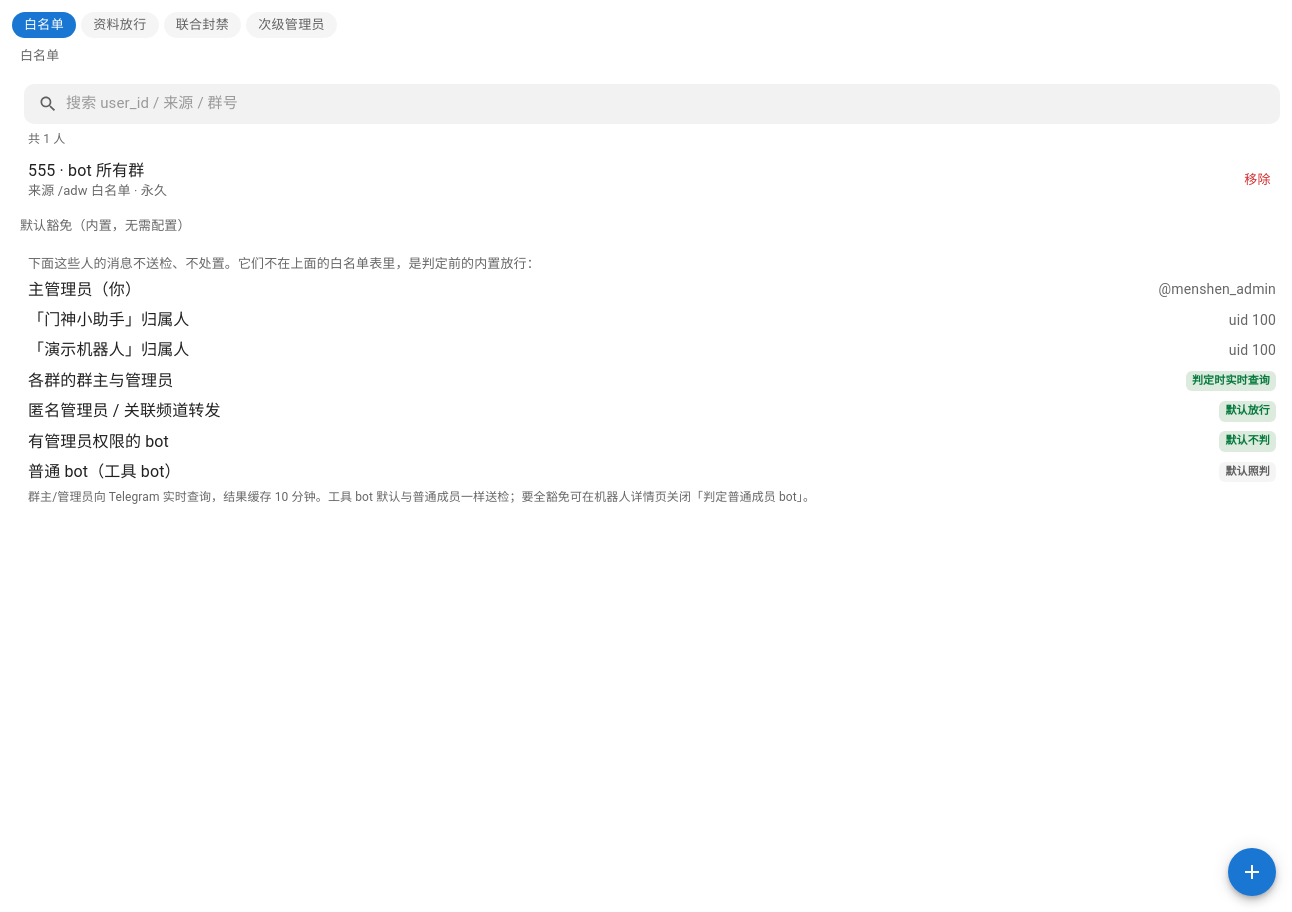
Scenario: ListsPage 四处搜索（本地过滤 + 焦点不丢） › 资料放行：按 uid / 机器人 / 原因过滤，输入焦点不丢
Expected: the text "555 · bot 所有群" is shown, left=28, top=161, right=144, bottom=180
Click the button "资料放行" at (120, 25), box left=81, top=12, right=159, bottom=38
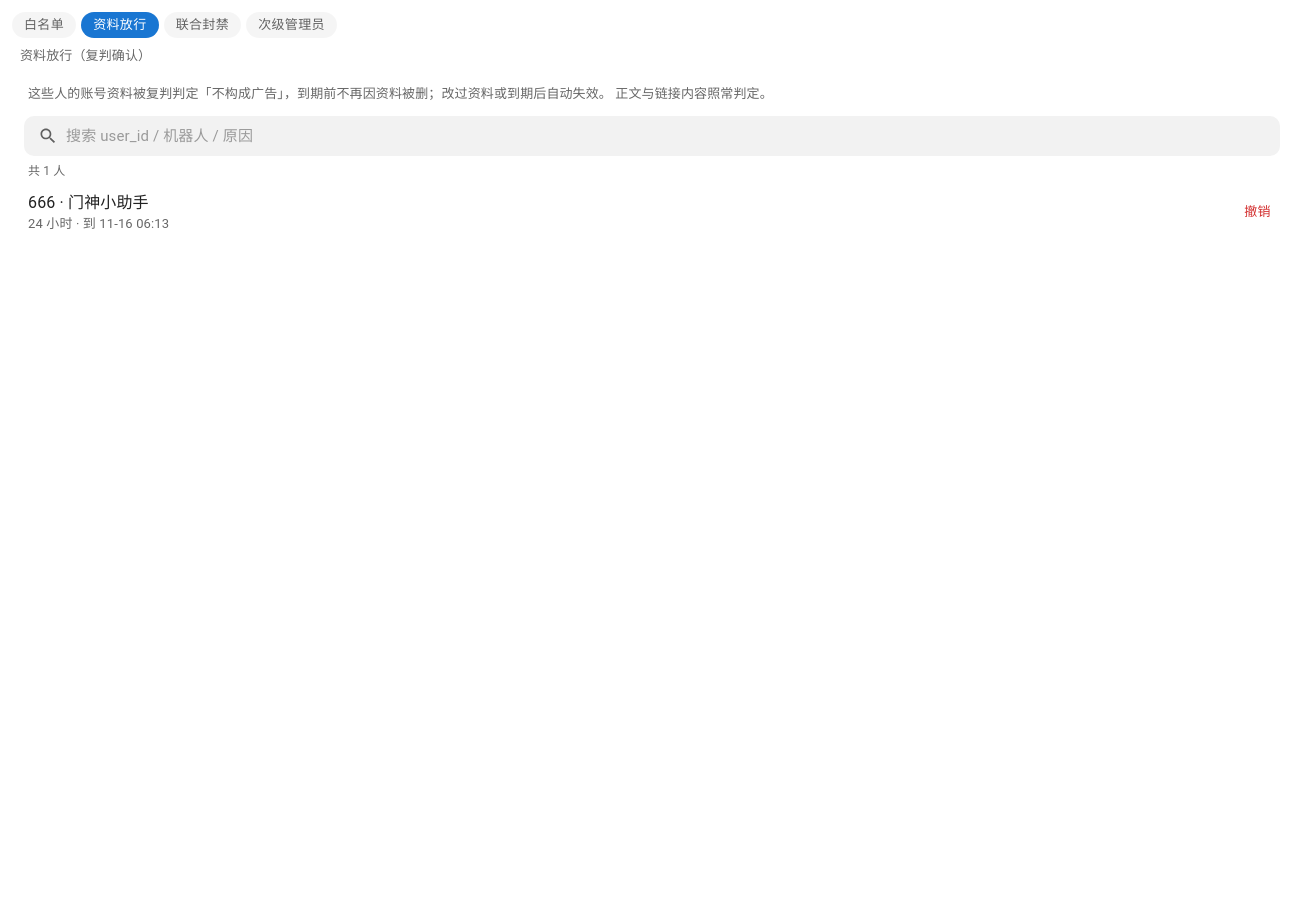
Type "666" into the field named "搜索资料放行" at (673, 136), box left=66, top=117, right=1280, bottom=156
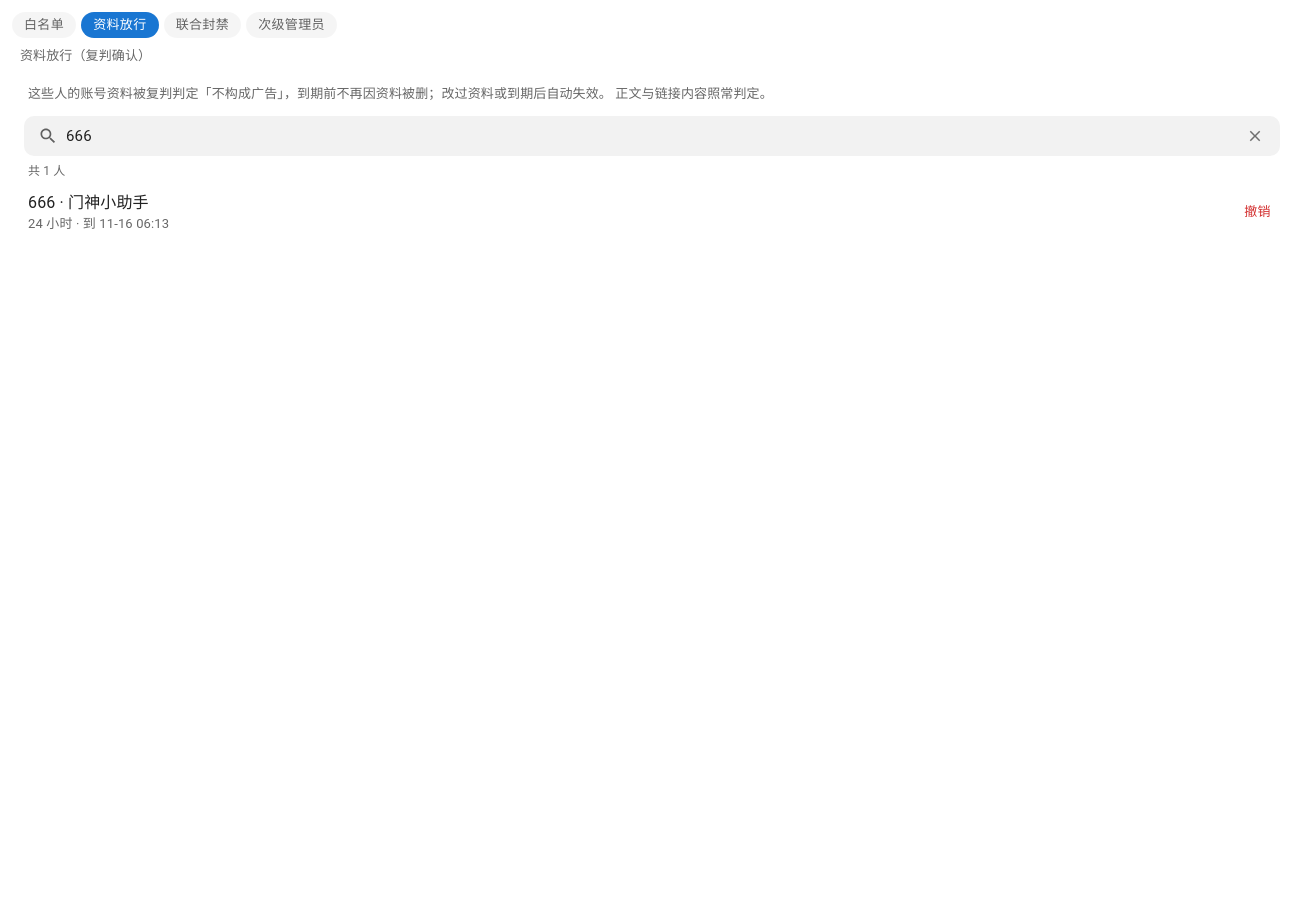
Expected: the text "666 · 门神小助手" is shown, left=28, top=194, right=149, bottom=212
Replace the text in the field named "搜索资料放行" with "门神" at (650, 136), box left=66, top=117, right=1233, bottom=156
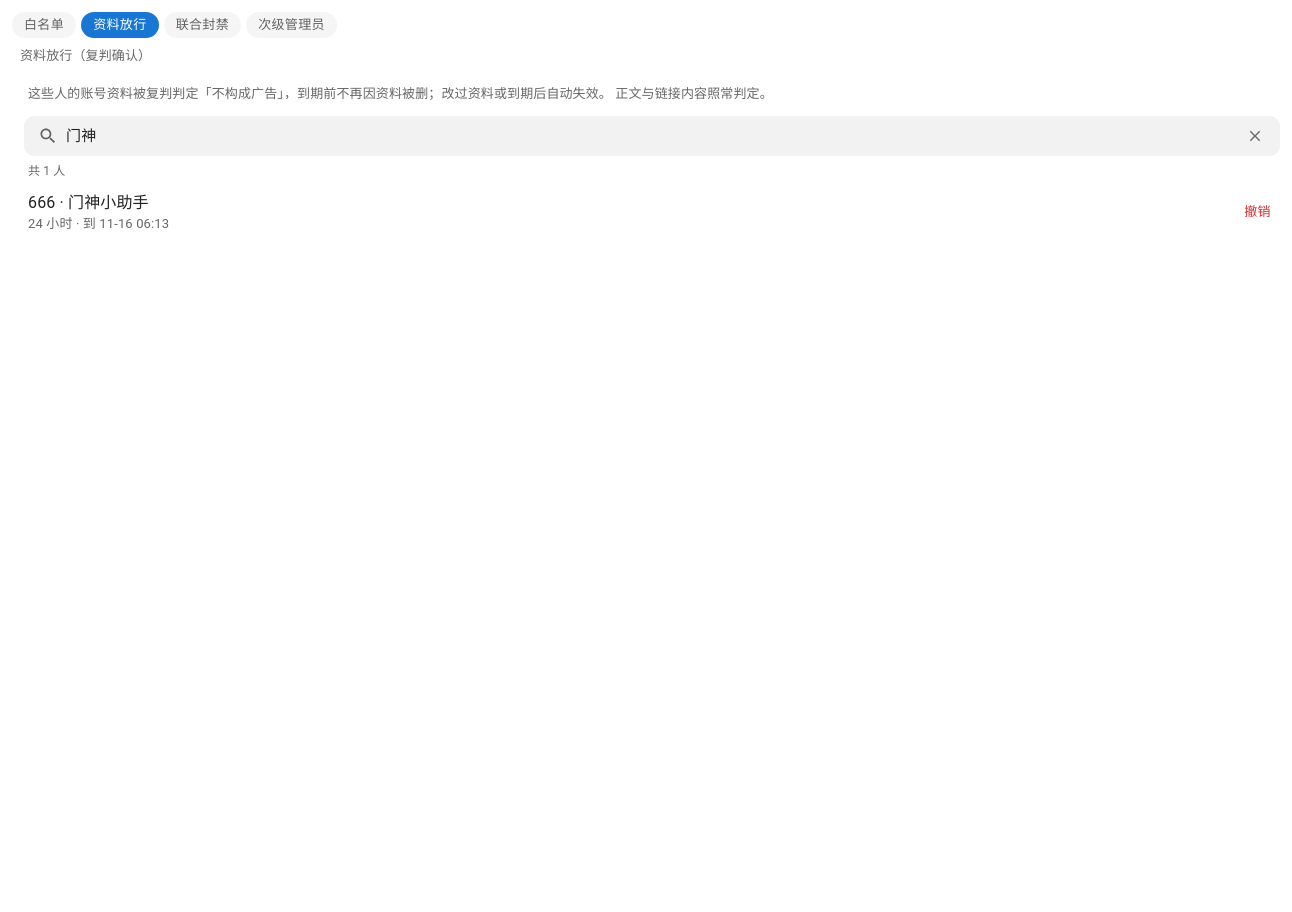
Expected: the text "666 · 门神小助手" is shown, left=28, top=194, right=149, bottom=212
Replace the text in the field named "搜索资料放行" with "资料没问题" at (650, 136), box left=66, top=117, right=1233, bottom=156
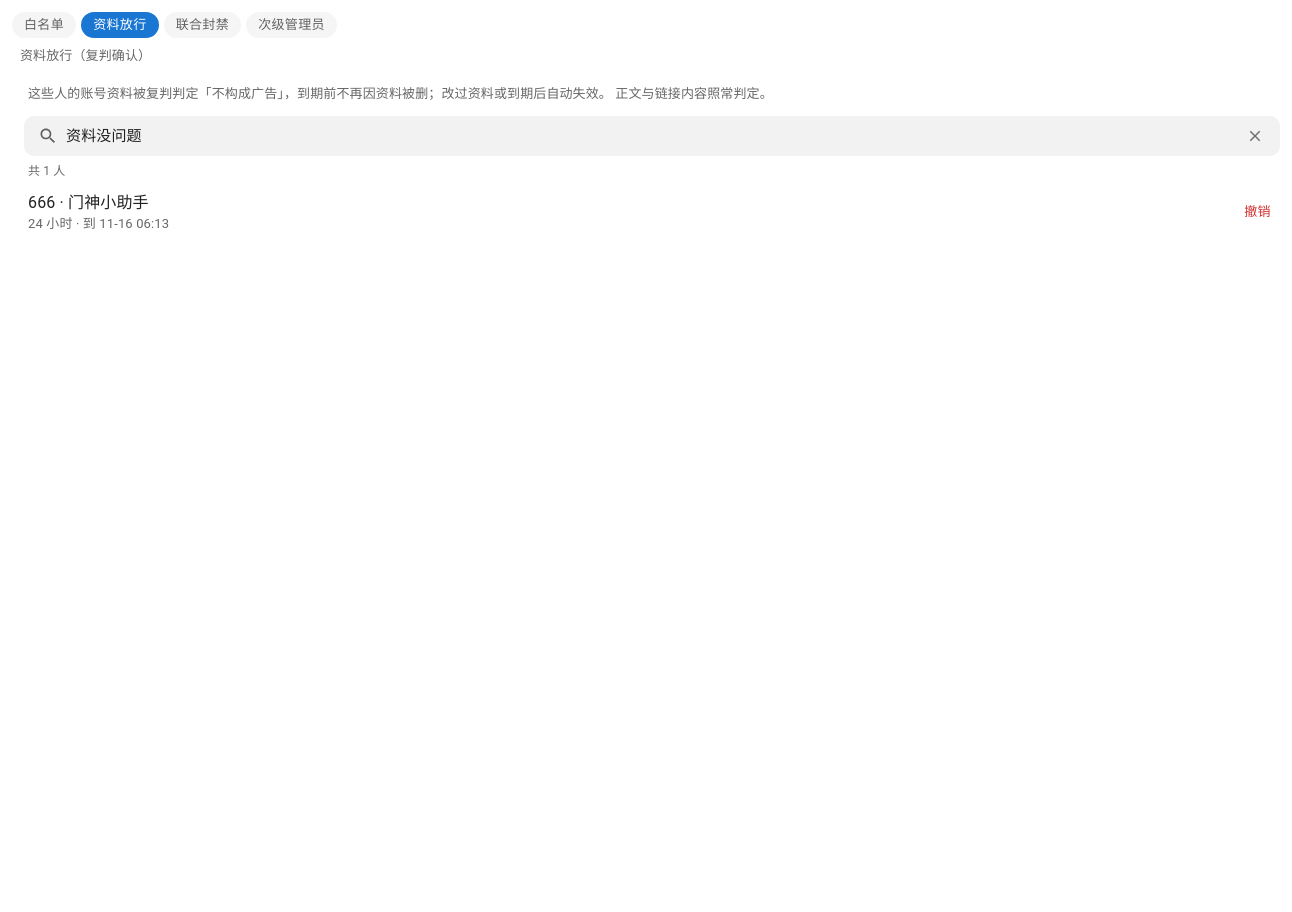
Expected: the text "666 · 门神小助手" is shown, left=28, top=194, right=149, bottom=212
Replace the text in the field named "搜索资料放行" with "zzz" at (650, 136), box left=66, top=117, right=1233, bottom=156
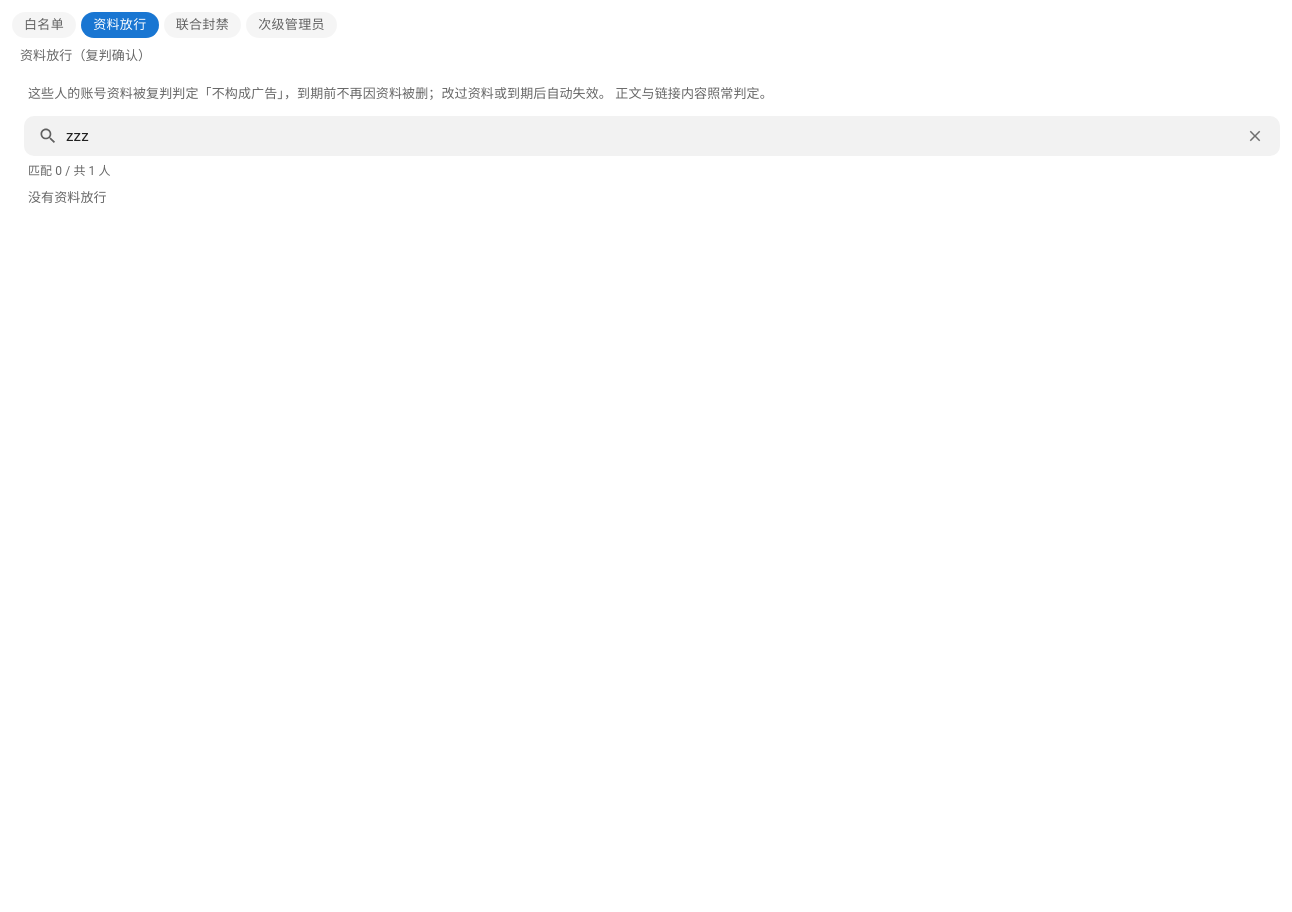
Expected: the text "666 · 门神小助手" is gone
Expected: the text "没有资料放行" is shown, left=28, top=190, right=107, bottom=206
